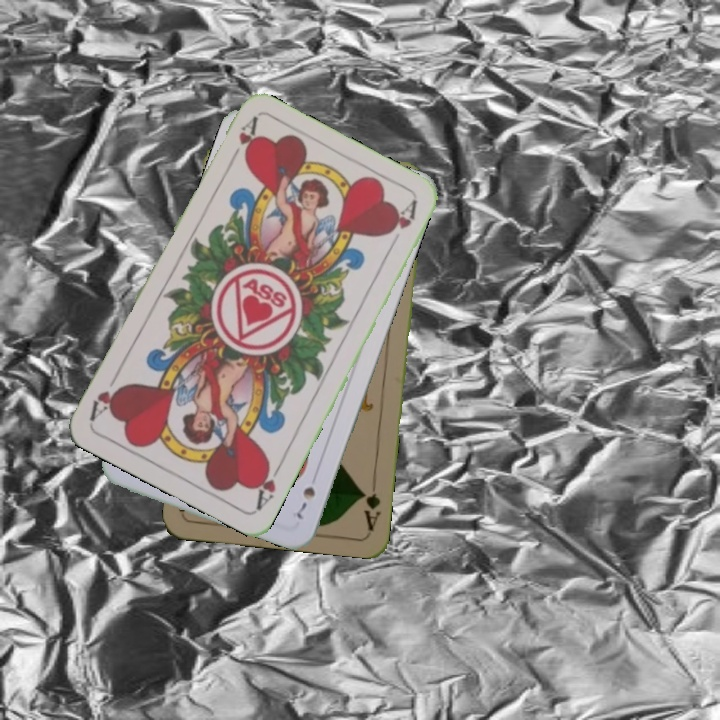GA: (358, 473, 383, 533)
HA: (251, 456, 286, 513), (224, 114, 260, 169)
S7: (292, 482, 318, 522)
